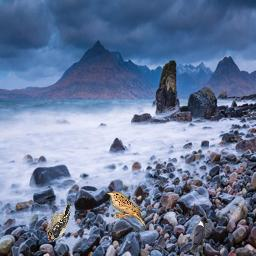Crow: (190, 216, 208, 256)
Sparrow: (107, 192, 146, 228)
Woodpecker: (47, 202, 73, 242)
